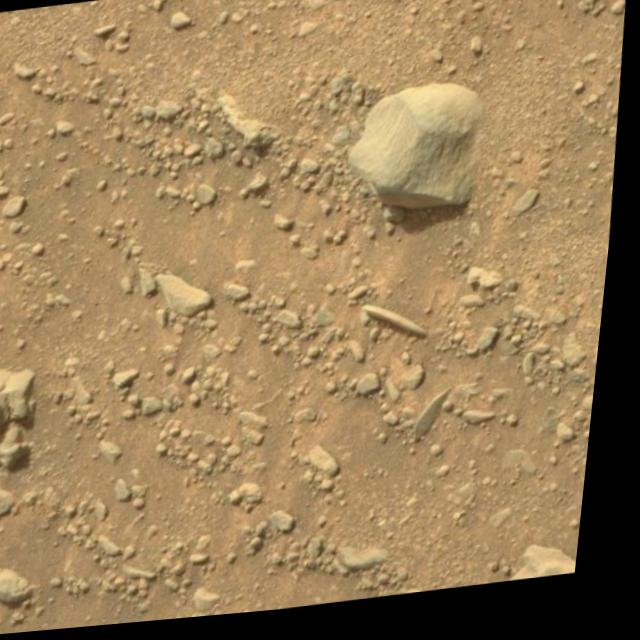mars-rocks: (353, 90, 485, 216), (0, 369, 42, 471), (526, 556, 590, 591)
